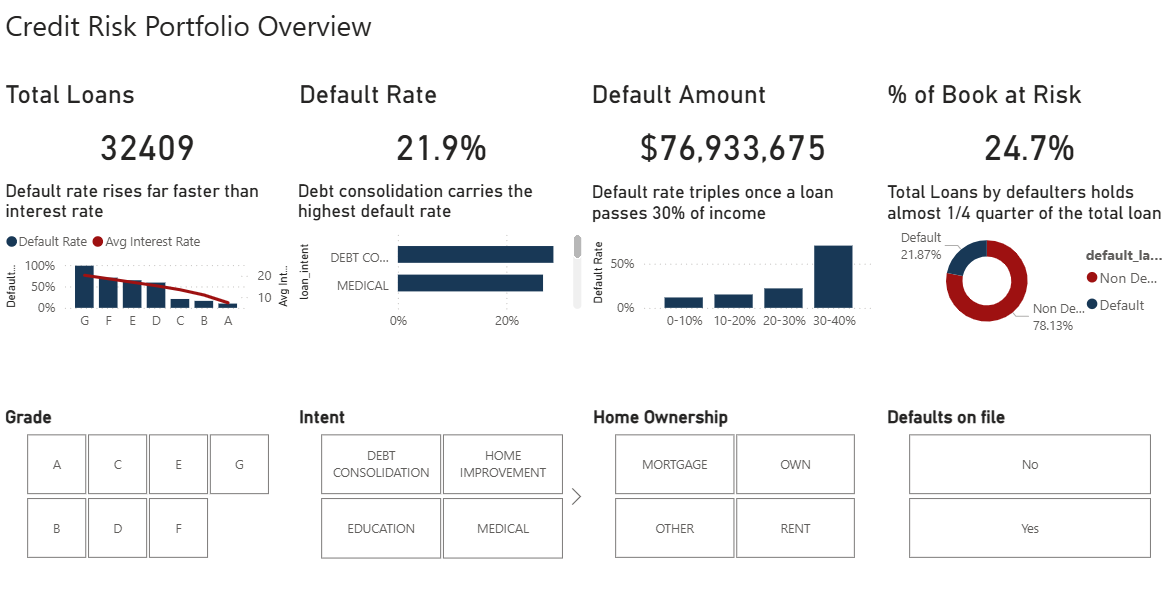

The page's visual inventory and layout, read from the dashboard file:
{"tool":"powerbi","page":{"name":"Portfolio Overview","canvas":[1280,720],"ordinal":0},"visuals":[{"type":"card","title":"Total Loans","fields":{"Values":["_Measures.Total Loans"]},"box":[0,75.7,280,95.7],"z":0},{"type":"card","title":"Default Rate","fields":{"Values":["_Measures.Default Rate"]},"box":[280,75.7,280,95.7],"z":1000},{"type":"card","title":"Default Amount","fields":{"Values":["_Measures.Amount in Default"]},"box":[558.6,75.7,278.6,95.7],"z":2000},{"type":"card","title":"% of Book at Risk","fields":{"Values":["_Measures.% of Book in Default"]},"box":[840,75.7,280,95.7],"z":3000},{"type":"lineStackedColumnComboChart","title":"Default rate rises far faster than interest rate","fields":{"Y":["_Measures.Default Rate"],"Y2":["_Measures.Avg Interest Rate"],"Category":["Loans.loan_grade"]},"box":[0,171.4,280,151.4],"z":4000},{"type":"clusteredBarChart","title":"Debt consolidation carries the highest default rate","fields":{"Category":["Loans.loan_intent"],"Y":["_Measures.Default Rate"]},"box":[278.6,171.4,280,151.4],"z":5000},{"type":"clusteredColumnChart","title":"Default rate triples once a loan passes 30% of income","fields":{"Category":["Loans.loan_to_income_band"],"Y":["_Measures.Default Rate"]},"box":[558.6,172.9,278.6,150],"z":6000},{"type":"donutChart","title":"Total Loans by defaulters holds almost 1/4 quarter of  the total loan","fields":{"Category":["Loans.default_label"],"Y":["_Measures.Total Loans"]},"box":[840,172.9,280,150],"z":7000},{"type":"textbox","box":[0,0,858.6,47.1],"z":8000},{"type":"slicer","title":"Grade","fields":{"Values":["Loans.loan_grade"]},"box":[0,387.5,280,151],"z":8001},{"type":"slicer","title":"Intent","fields":{"Values":["Loans.loan_intent"]},"box":[280,387.1,280,151.4],"z":8002},{"type":"slicer","title":"Home Ownership","fields":{"Values":["Loans.person_home_ownership"]},"box":[560,387,278,151],"z":8003},{"type":"slicer","title":"Defaults on file","fields":{"Values":["Loans.cb_person_default_on_file"]},"box":[840,387,280,151],"z":8004}]}

Visuals, with their boxes on the page's 1280x720 design canvas (x1, y1, x2, y2). These are canvas units, not pixel positions in the 1170x602 screenshot, which may show the page scaled, cropped or inside an application window:
"Total Loans" card: pyautogui.locateOnScreen(0, 76, 280, 171)
"Default Rate" card: pyautogui.locateOnScreen(280, 76, 560, 171)
"Default Amount" card: pyautogui.locateOnScreen(559, 76, 837, 171)
"% of Book at Risk" card: pyautogui.locateOnScreen(840, 76, 1120, 171)
"Default rate rises far faster than interest rate" lineStackedColumnComboChart: pyautogui.locateOnScreen(0, 171, 280, 323)
"Debt consolidation carries the highest default rate" clusteredBarChart: pyautogui.locateOnScreen(279, 171, 559, 323)
"Default rate triples once a loan passes 30% of income" clusteredColumnChart: pyautogui.locateOnScreen(559, 173, 837, 323)
"Total Loans by defaulters holds almost 1/4 quarter of  the total loan" donutChart: pyautogui.locateOnScreen(840, 173, 1120, 323)
textbox: pyautogui.locateOnScreen(0, 0, 859, 47)
"Grade" slicer: pyautogui.locateOnScreen(0, 388, 280, 538)
"Intent" slicer: pyautogui.locateOnScreen(280, 387, 560, 538)
"Home Ownership" slicer: pyautogui.locateOnScreen(560, 387, 838, 538)
"Defaults on file" slicer: pyautogui.locateOnScreen(840, 387, 1120, 538)
